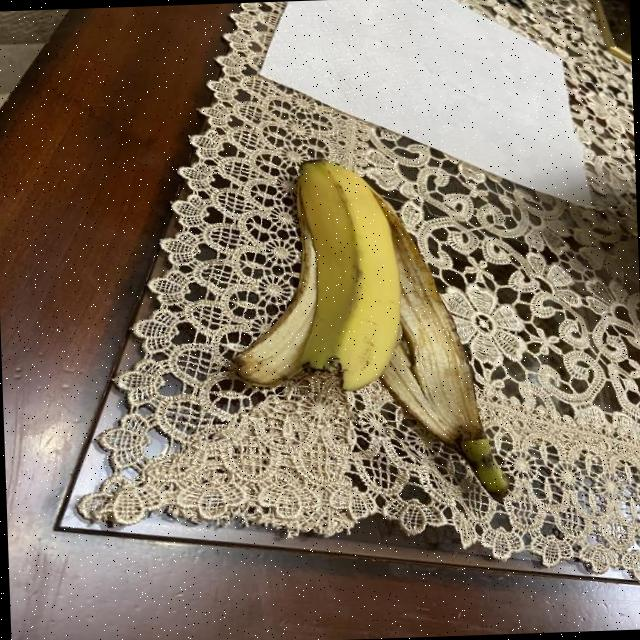banana-peel: (224, 152, 508, 505), (363, 178, 508, 499), (294, 156, 404, 392)
